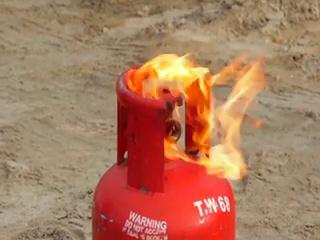Fire: (124, 20, 267, 174)
